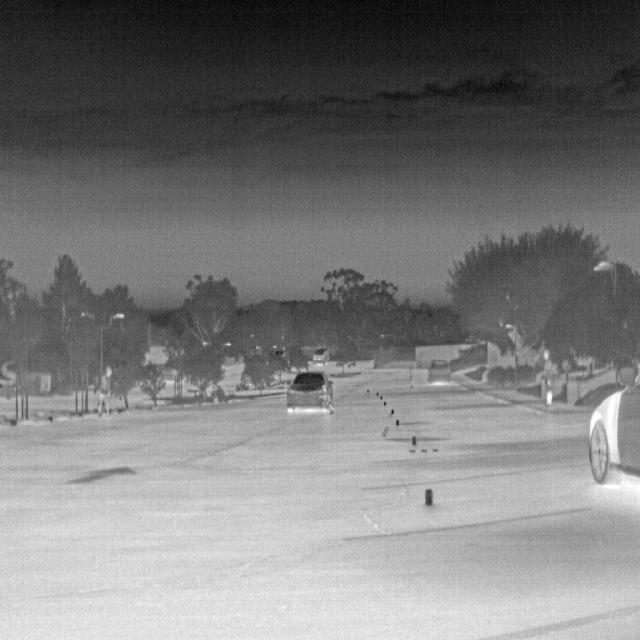Pedestrian: (95, 365, 112, 416), (540, 349, 553, 409), (318, 382, 334, 417)
Vehicle: (284, 372, 334, 414), (426, 358, 451, 383)
